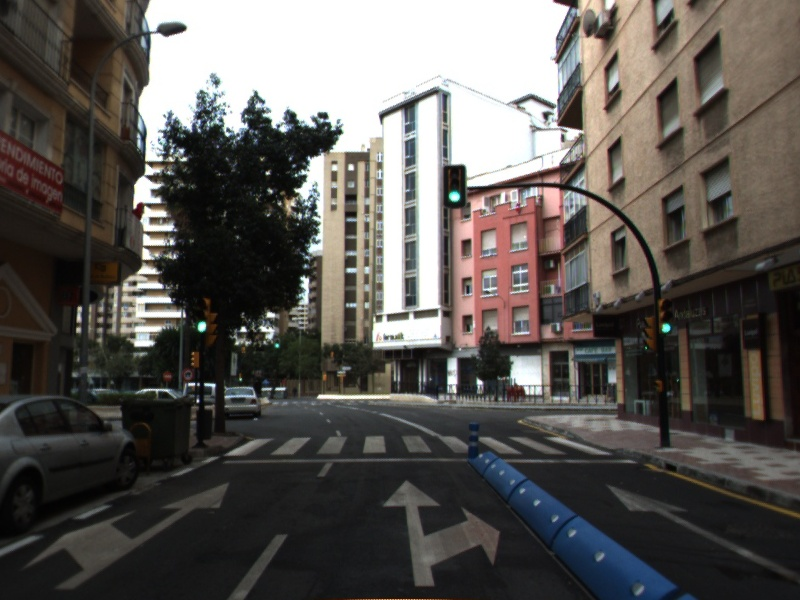STRAIGHT: (603, 482, 800, 584)
STRAIGHT_LEFT: (17, 477, 233, 592)
STRAIGHT_RIGHT: (378, 476, 503, 590)
